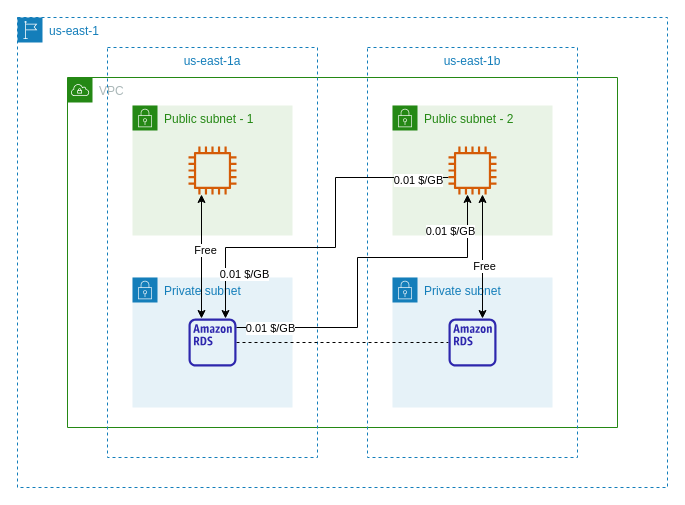
The diagram is 685 pixels wide and 505 high, and some of its shapes have lost their labels. Here are the shapes that lost their labels. From the top down, the centre of each, then its label:
[212,170]: EC2 Instance-1
[472,170]: EC2 Instance-2
[212,342]: RDS Primary
[472,342]: RDS Read Replica
